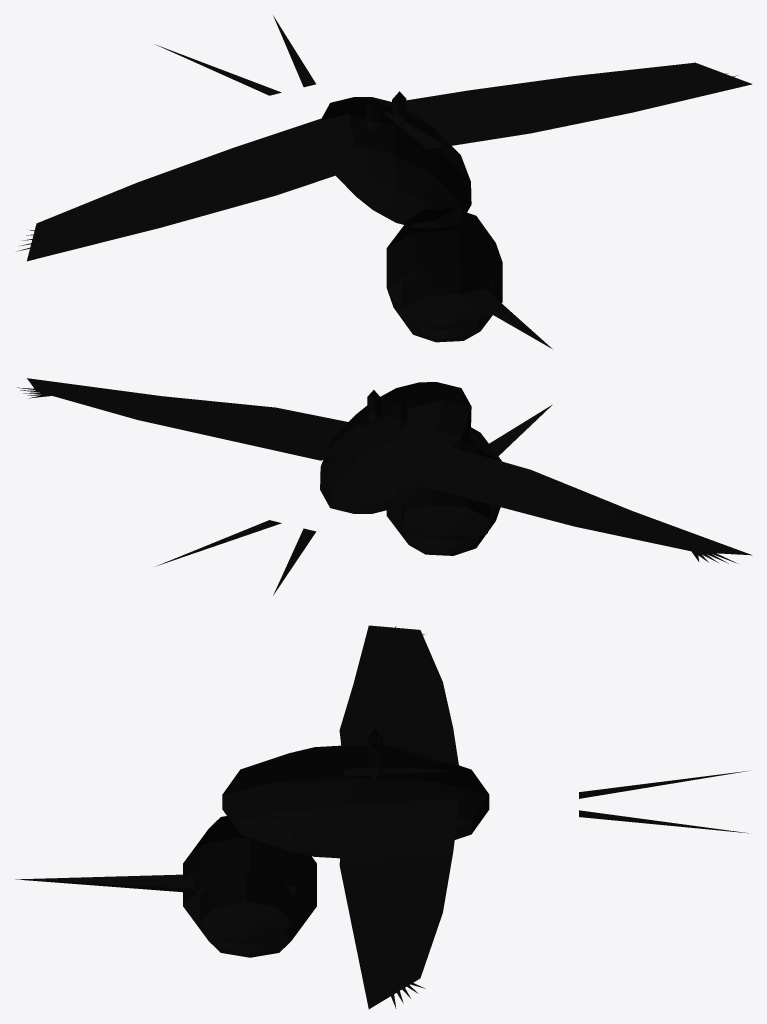
File: gliding_07.glb
The picture shows the model from 3 angles, top to bottom: view 1: azimuth 30°, elevation 25°; view 2: azimuth 150°, elevation 25°; view 3: azimuth 270°, elevation 25°; orthographic projection. The views are drawn at different scales.
Parts seen in each view (by area): view 1: BirdBody; view 2: BirdBody; view 3: BirdBody.
Boxes of the visible parts, bbox=[...] form: BirdBody: bbox=[16, 15, 752, 349]; BirdBody: bbox=[17, 378, 752, 595]; BirdBody: bbox=[15, 625, 749, 1009].
Size of the model in its own units: 1.13 by 0.3019 by 0.9215.
Materials: 1 (1 with a texture image).
